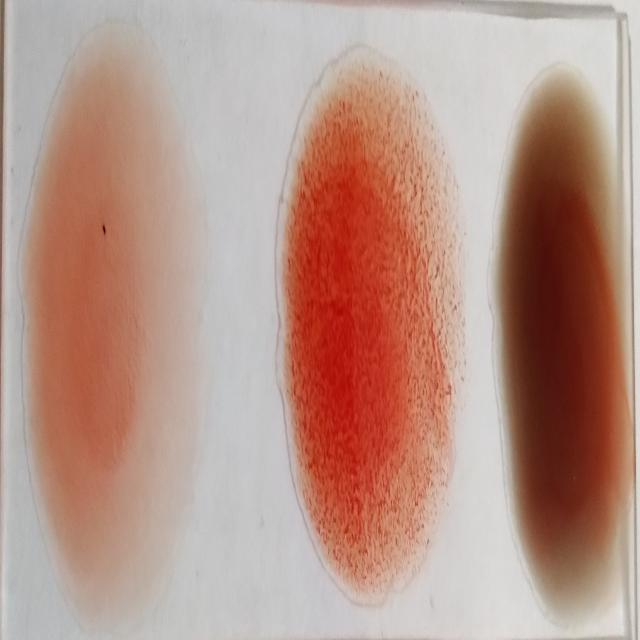B: (276, 57, 455, 598)
